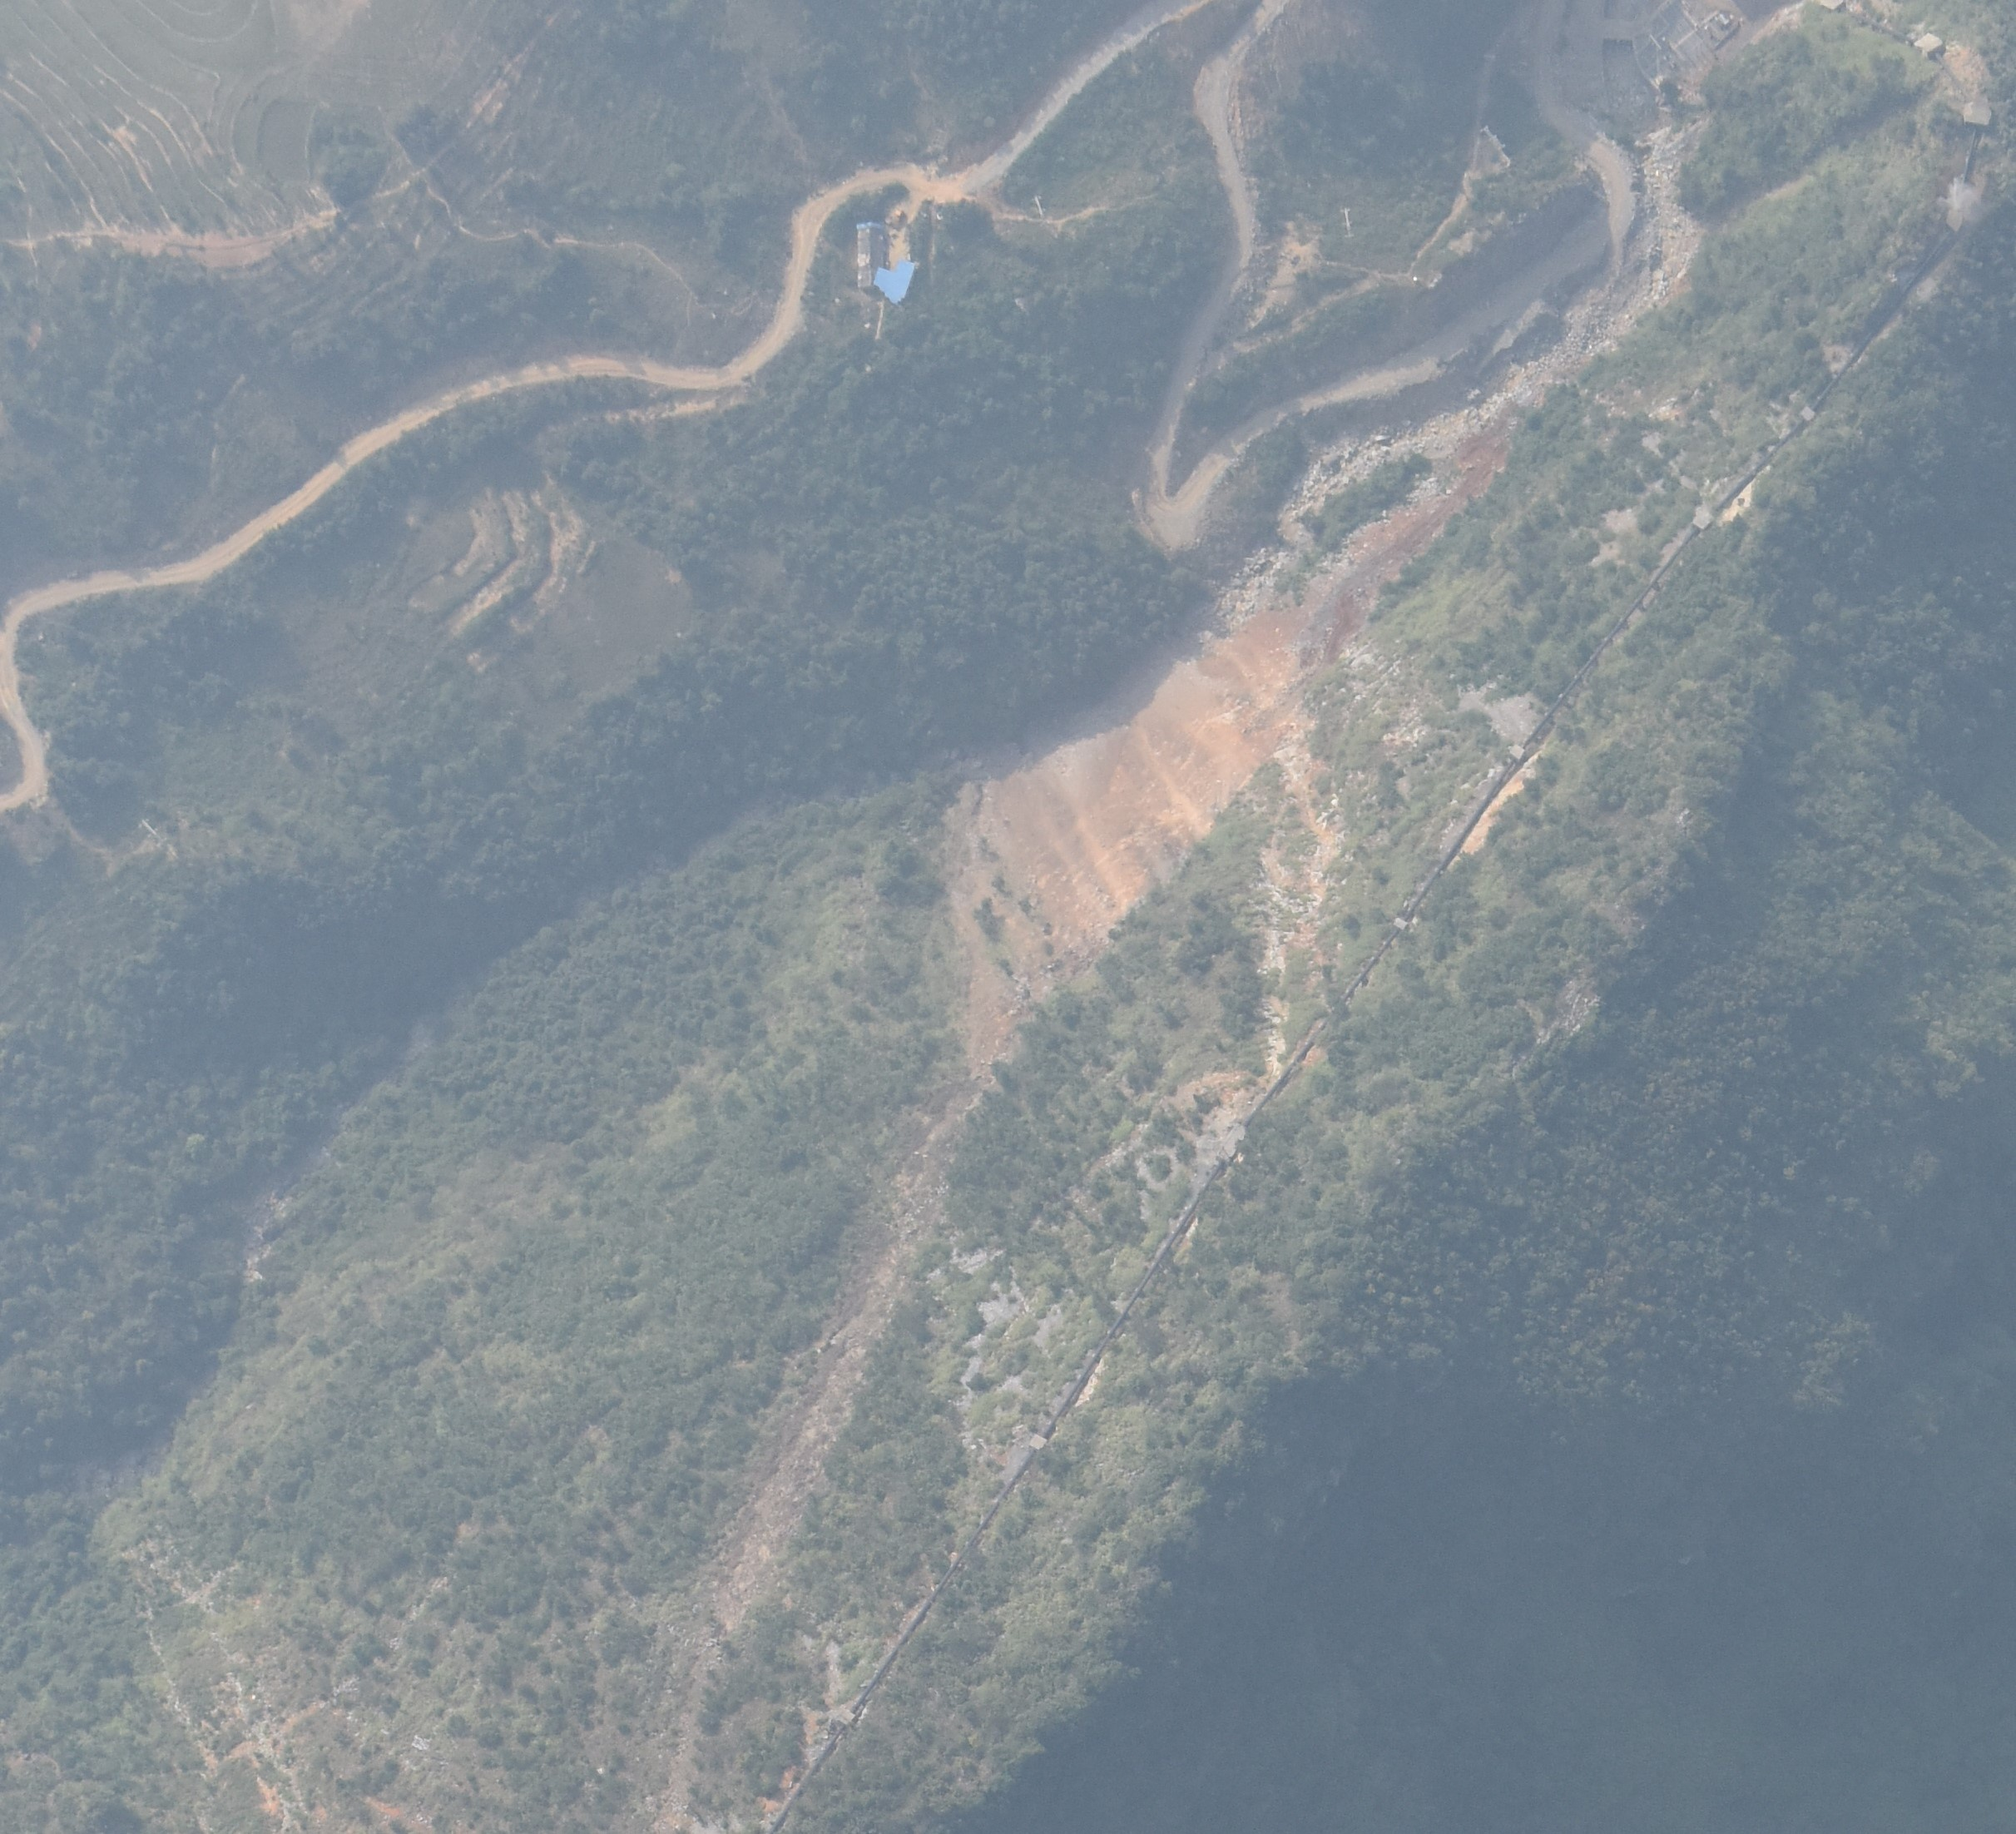building: (857, 222, 886, 289)
cable-tower: (1032, 195, 1047, 220), (1340, 206, 1352, 233)
prefabricated-house: (873, 260, 916, 306)
vehicle: (890, 209, 903, 231)
